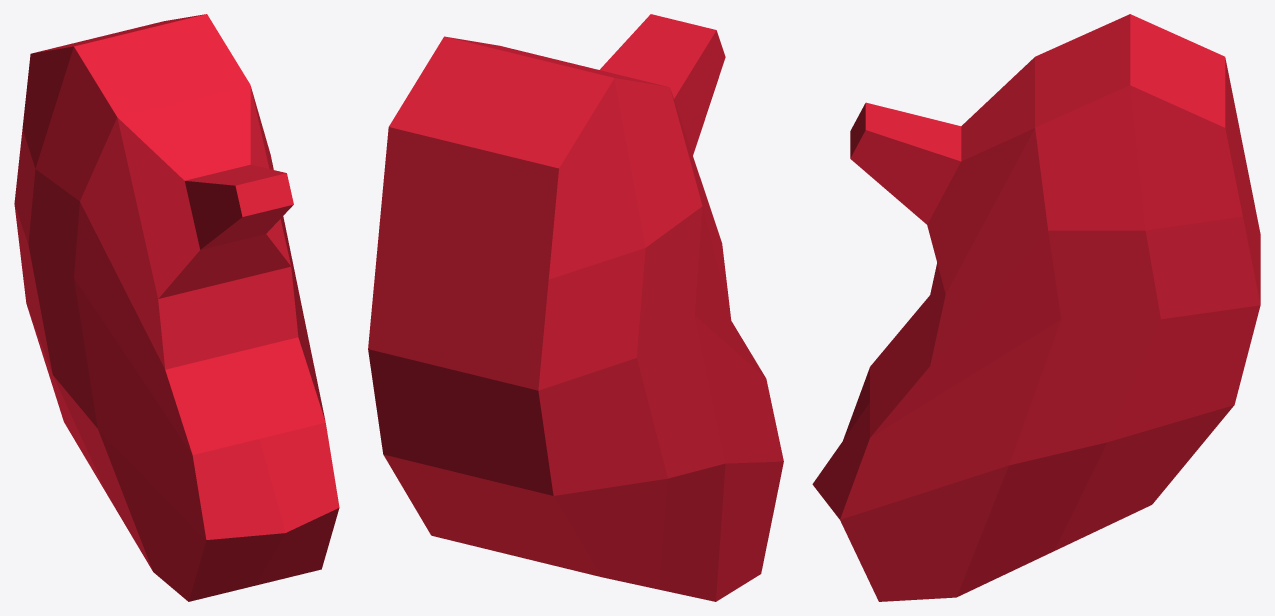
Rendered from Organ.glb.
3 views of the same model, side by side, from view 1: azimuth 30°, elevation 25°; view 2: azimuth 150°, elevation 25°; view 3: azimuth 270°, elevation 25° (orthographic). The views are drawn at different scales.
Visible parts, largest first — view 1: Organ; view 2: Organ; view 3: Organ.
Part boxes in pixels (left/top/right/bottom): Organ: left=14, top=14, right=339, bottom=601; Organ: left=368, top=14, right=783, bottom=601; Organ: left=812, top=14, right=1260, bottom=601.
Bounding box in the file's own units: 0.2694 × 0.6363 × 0.5002.
